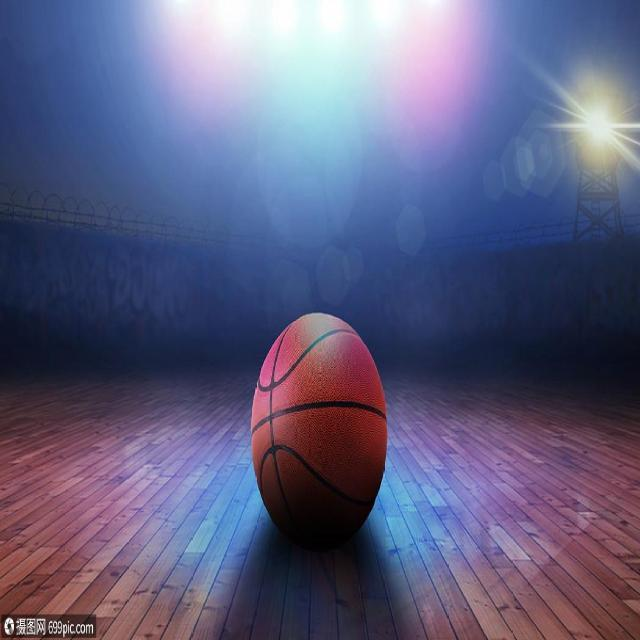rim: (250, 312, 390, 538)
